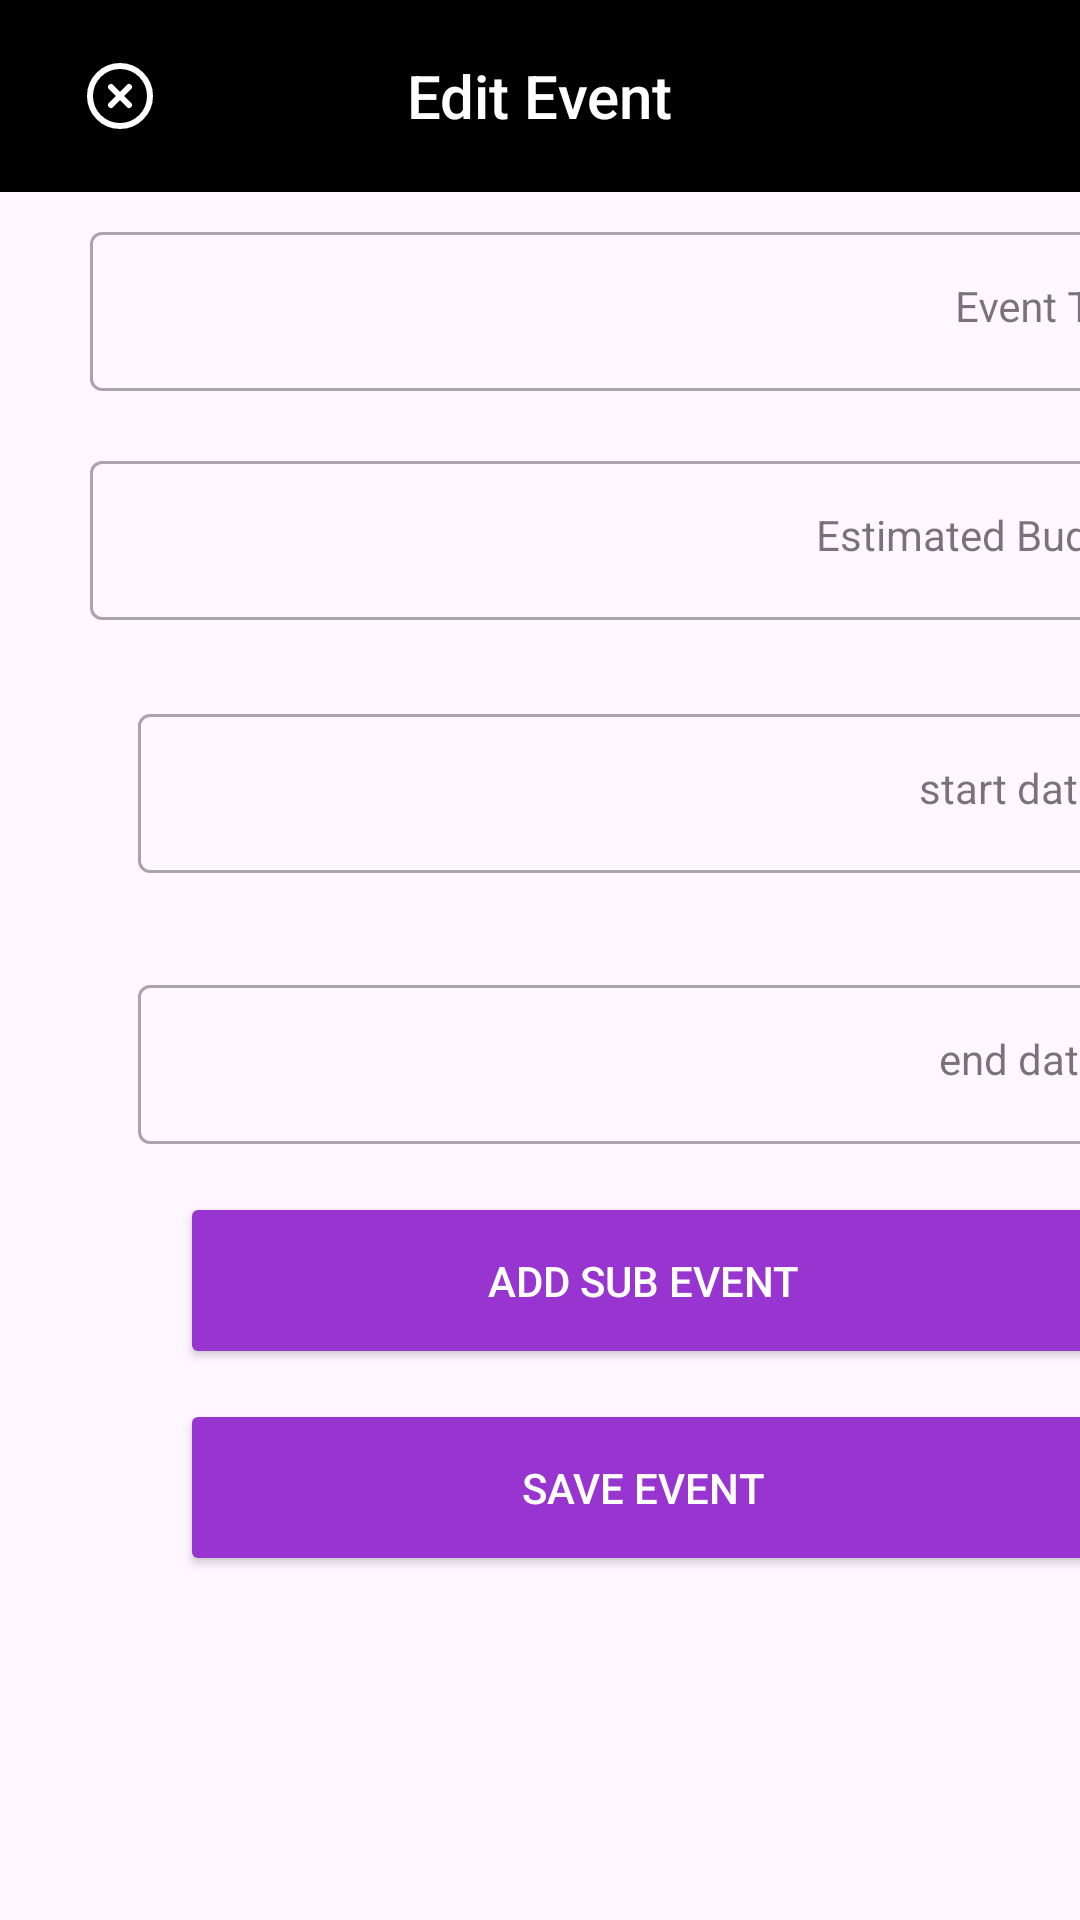

Named icons in this screenshot (1080 × 1920) and their centers, [x,y]:
Exit: [120,96]
